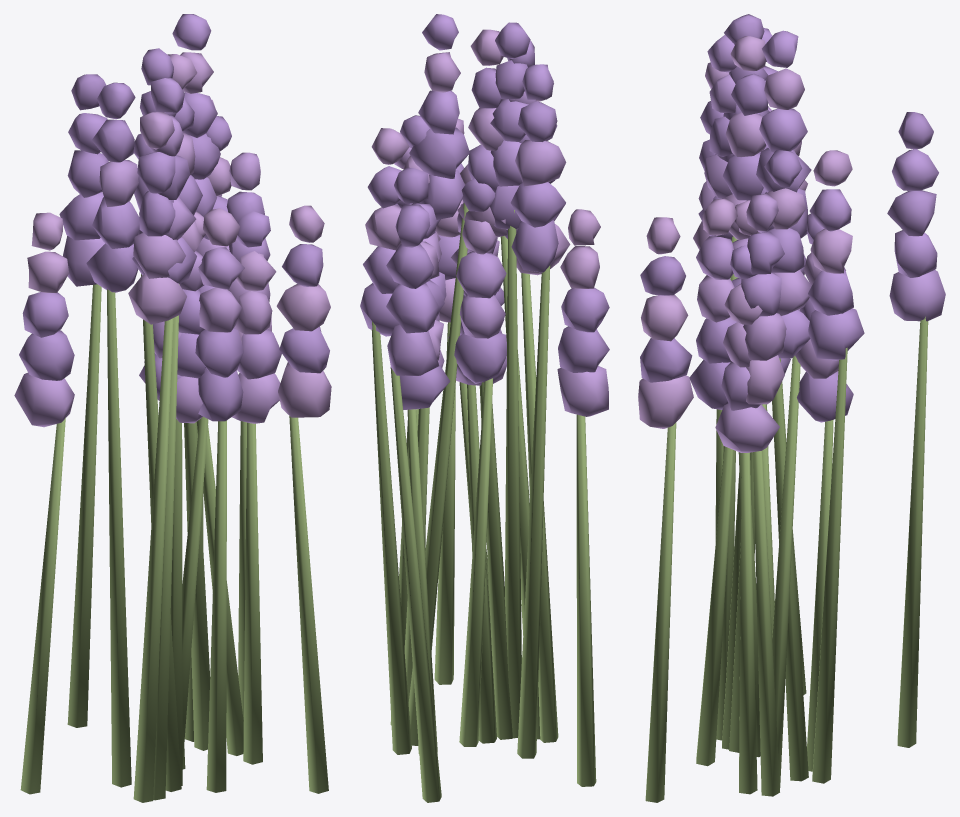
Rendered from lavender_2.glb.
3 views of the same model, side by side, from view 1: azimuth 30°, elevation 25°; view 2: azimuth 150°, elevation 25°; view 3: azimuth 270°, elevation 25° (orthographic). The views are drawn at different scales.
Visible parts, largest first — view 1: lavender; view 2: lavender; view 3: lavender.
Boxes of the visible parts, box(x1,y1,x2,y2) form: lavender: box(14, 14, 331, 802); lavender: box(360, 14, 609, 802); lavender: box(638, 14, 945, 802).
Bounding box in the file's own units: 0.2194 × 0.6331 × 0.2393.
